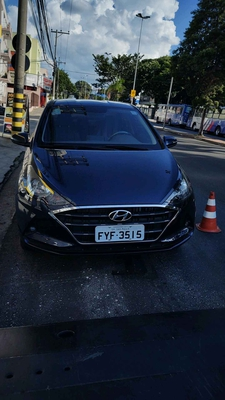Frontal Veiculo: (10, 100, 198, 250)
